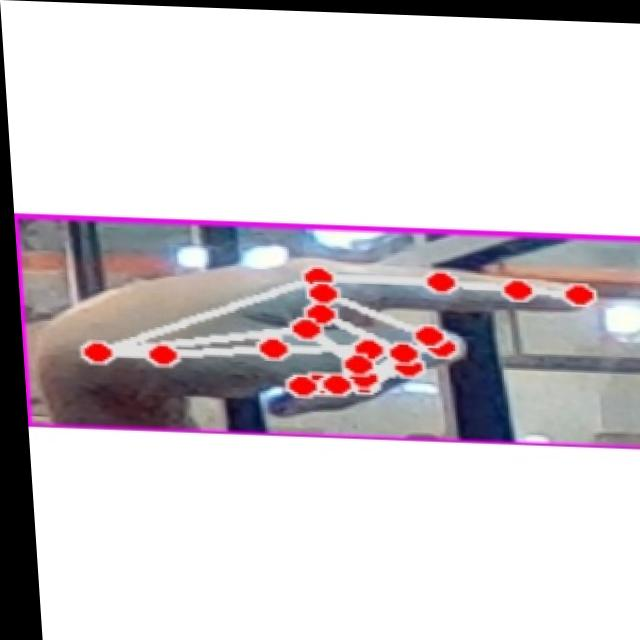G: (40, 238, 607, 421)
